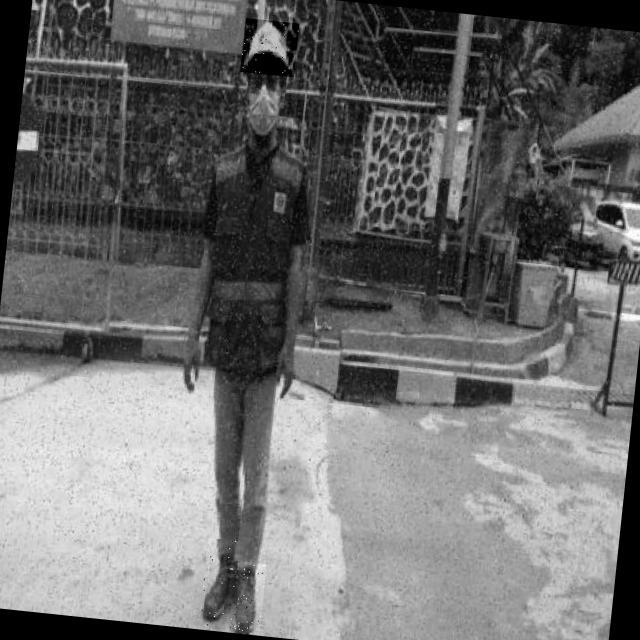Helmet: (240, 18, 299, 77)
Person: (165, 4, 340, 640)
Safety Boot: (199, 538, 242, 629), (226, 561, 267, 636)
bare-arms: (265, 318, 300, 405), (178, 320, 207, 398)
no-vest: (191, 139, 319, 382)
